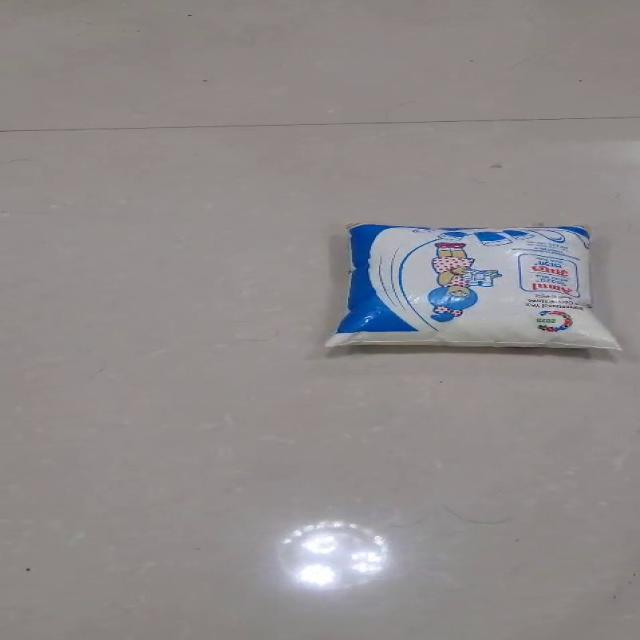plastic: (323, 221, 621, 351)
